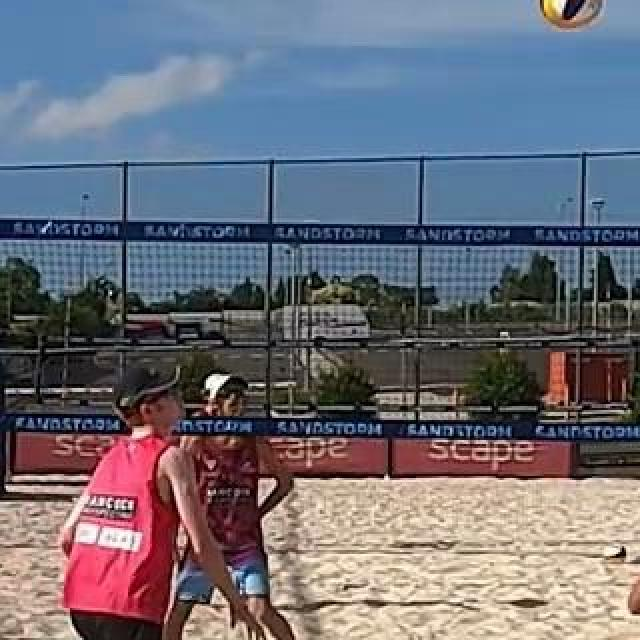volleyball: (538, 1, 606, 31), (602, 540, 628, 564)
